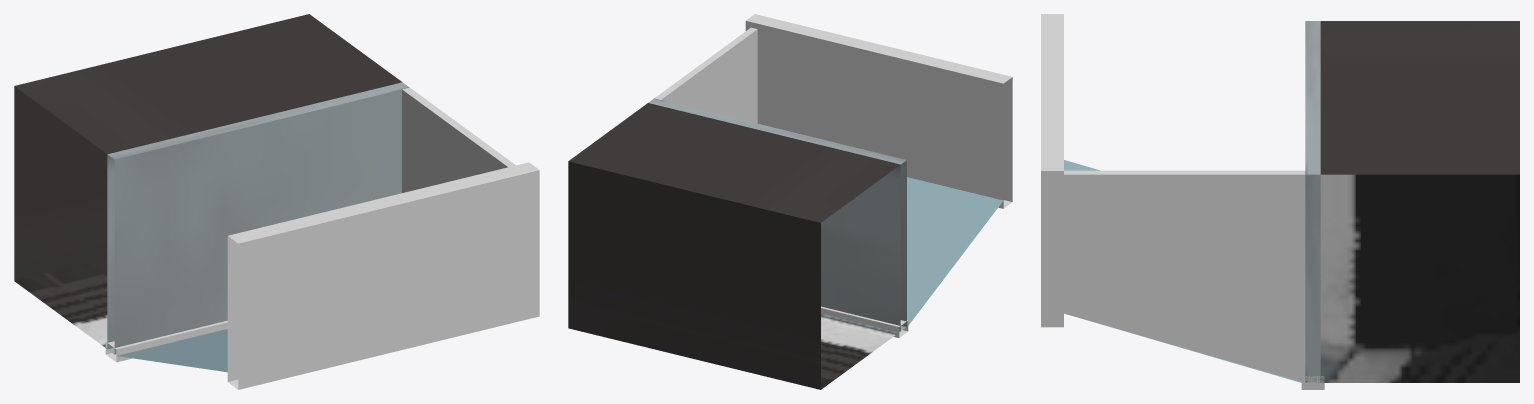
File: pz_g020_location_shop_generic_01_white_display_counter_part0.obj
3 views of the same model, side by side, from view 1: azimuth 30°, elevation 25°; view 2: azimuth 150°, elevation 25°; view 3: azimuth 270°, elevation 25° (orthographic). The views are drawn at different scales.
Visible parts, largest first — view 1: display_canopy_top, display_floor_top, display_base_front, display_base_bottom, outer_end_wall_right, display_base_rear, display_canopy_front, sloped_front_glass, display_floor_front, display_canopy_bottom, display_floor_bottom, outer_end_wall_edge (+1 smaller); view 2: display_base_bottom, display_canopy_bottom, display_base_front, display_floor_bottom, sloped_front_glass, outer_end_wall_right, display_base_rear, display_canopy_front, display_floor_front, display_canopy_top, display_floor_top, outer_end_wall_edge (+1 smaller); view 3: outer_end_wall_left, display_base_left, display_base_front, display_canopy_front, display_canopy_left, display_floor_left, display_floor_front, outer_end_wall_edge, sloped_front_glass.
Part boxes in pixels (<box>): display_canopy_top: <box>238,170,539,389</box>; display_floor_top: <box>114,89,401,354</box>; display_base_front: <box>14,14,401,154</box>; display_base_bottom: <box>14,86,107,280</box>; outer_end_wall_right: <box>402,89,507,192</box>; display_base_rear: <box>14,258,107,348</box>; display_canopy_front: <box>228,162,539,243</box>; sloped_front_glass: <box>117,329,227,372</box>; display_floor_front: <box>108,82,409,159</box>; display_canopy_bottom: <box>227,236,238,381</box>; display_floor_bottom: <box>107,154,114,349</box>; outer_end_wall_edge: <box>402,87,515,167</box>; display_base_bottom: <box>568,161,820,389</box>; display_canopy_bottom: <box>745,21,1003,208</box>; display_base_front: <box>568,103,900,222</box>; display_floor_bottom: <box>821,165,900,331</box>; sloped_front_glass: <box>907,177,1003,325</box>; outer_end_wall_right: <box>661,29,757,123</box>; display_base_rear: <box>821,313,900,389</box>; display_canopy_front: <box>746,14,1011,83</box>; display_floor_front: <box>648,98,906,164</box>; display_canopy_top: <box>1003,77,1012,201</box>; display_floor_top: <box>900,160,906,326</box>; outer_end_wall_edge: <box>654,27,757,99</box>; outer_end_wall_left: <box>1064,174,1305,382</box>; display_base_left: <box>1320,174,1519,382</box>; display_base_front: <box>1320,21,1519,174</box>; display_canopy_front: <box>1041,14,1063,170</box>; display_canopy_left: <box>1041,171,1063,327</box>; display_floor_left: <box>1305,174,1320,382</box>; display_floor_front: <box>1305,21,1320,174</box>; outer_end_wall_edge: <box>1064,170,1305,174</box>; sloped_front_glass: <box>1064,160,1301,382</box>.
Bounding box in the file's own units: 0.97 × 0.64 × 1.25.
1 material, 1 textured.
